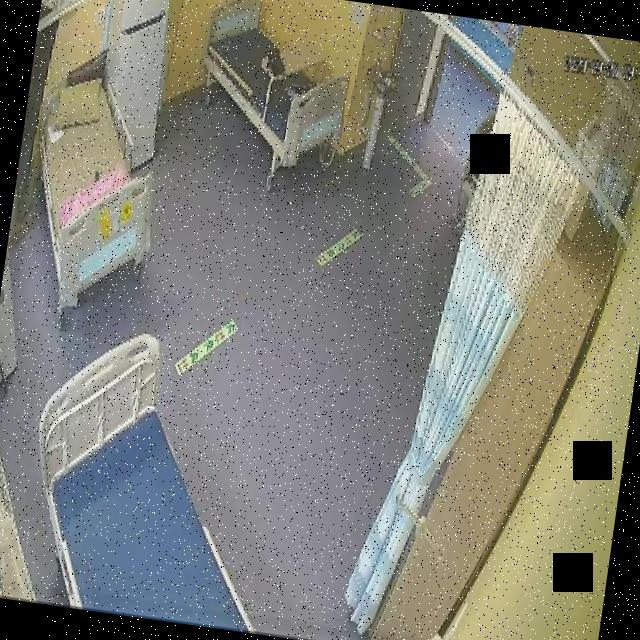bed: (15, 322, 292, 632), (16, 55, 176, 301), (189, 0, 361, 175)
